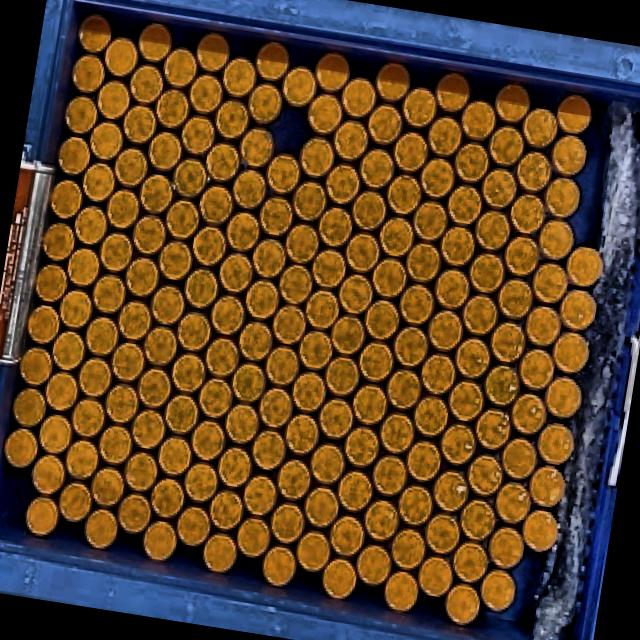vial: (545, 376, 582, 419), (552, 332, 589, 374), (321, 558, 358, 600), (452, 541, 489, 583), (444, 583, 481, 625), (529, 465, 565, 508), (356, 544, 392, 587), (480, 569, 516, 612), (566, 246, 603, 287), (560, 289, 597, 330), (352, 384, 388, 426), (344, 426, 380, 468), (379, 412, 415, 454), (413, 395, 449, 437), (481, 168, 517, 210), (462, 294, 498, 336), (448, 380, 484, 422), (516, 151, 552, 193), (490, 322, 526, 364), (467, 455, 503, 497), (525, 305, 561, 347), (511, 393, 547, 435), (501, 438, 537, 480), (337, 470, 373, 512), (425, 513, 461, 555), (488, 527, 524, 569), (296, 530, 331, 573), (367, 104, 403, 145), (359, 148, 395, 189), (402, 87, 438, 128), (386, 174, 422, 215), (364, 299, 400, 340), (386, 369, 422, 410), (494, 83, 530, 124), (475, 210, 511, 251), (455, 338, 491, 379), (440, 424, 476, 465), (556, 94, 592, 135), (551, 135, 587, 176), (475, 409, 511, 450), (261, 546, 297, 587), (329, 516, 365, 557), (398, 485, 434, 526), (433, 471, 469, 512), (418, 556, 454, 597), (460, 500, 496, 541), (225, 403, 260, 445), (428, 310, 463, 352), (421, 353, 456, 395), (519, 349, 554, 391), (270, 502, 305, 544), (304, 486, 339, 528), (372, 455, 407, 497), (364, 500, 399, 542), (523, 510, 558, 552), (351, 191, 387, 231), (330, 315, 366, 355), (324, 357, 360, 397), (420, 158, 456, 198), (469, 253, 505, 293), (522, 108, 558, 148), (544, 178, 580, 218), (504, 236, 540, 276), (532, 263, 568, 303), (44, 371, 79, 412), (282, 66, 317, 107), (300, 137, 335, 178), (278, 264, 313, 305), (341, 77, 376, 118), (333, 120, 368, 161), (285, 414, 320, 455), (345, 232, 380, 273), (318, 398, 353, 439), (393, 132, 428, 173), (372, 257, 407, 298), (413, 200, 448, 241), (399, 284, 434, 325), (461, 100, 496, 141), (447, 185, 482, 226), (435, 269, 470, 310), (406, 441, 441, 482), (510, 193, 545, 234), (498, 279, 533, 320), (538, 424, 573, 465), (58, 482, 93, 523), (84, 508, 119, 549), (117, 493, 152, 534), (143, 520, 178, 561), (184, 462, 219, 503), (217, 447, 252, 488), (209, 490, 244, 531), (243, 475, 278, 516), (310, 443, 345, 484), (391, 529, 426, 570), (384, 571, 419, 612), (495, 483, 530, 524), (106, 188, 140, 230), (219, 252, 253, 294), (265, 345, 299, 387), (277, 459, 311, 501), (454, 144, 490, 183), (129, 64, 164, 104), (125, 257, 160, 297), (184, 268, 219, 308), (255, 41, 290, 81), (308, 94, 343, 134), (292, 181, 327, 221), (325, 164, 360, 204), (305, 290, 340, 330), (298, 331, 333, 371), (292, 372, 327, 412), (338, 274, 373, 314), (379, 217, 414, 257), (435, 72, 470, 112), (406, 243, 441, 283), (440, 226, 475, 266), (539, 220, 574, 260), (31, 455, 66, 495), (131, 409, 166, 449), (157, 436, 192, 476), (202, 533, 237, 573), (57, 136, 91, 177), (74, 205, 108, 246), (67, 247, 101, 288), (85, 316, 119, 357), (78, 357, 112, 398), (19, 346, 53, 387), (189, 74, 223, 115), (166, 199, 200, 240), (222, 57, 256, 98), (215, 99, 249, 140), (165, 394, 199, 435), (248, 83, 282, 124), (240, 127, 274, 168), (191, 420, 225, 461), (266, 154, 300, 195), (245, 279, 279, 320), (239, 321, 273, 362), (259, 387, 293, 428), (485, 366, 519, 407), (91, 466, 125, 507), (151, 478, 185, 519), (177, 506, 211, 547), (151, 286, 186, 325), (198, 379, 233, 418), (489, 127, 524, 166), (104, 37, 138, 77), (71, 54, 105, 94), (90, 121, 124, 161), (114, 148, 148, 188), (50, 179, 84, 219), (92, 274, 126, 314), (52, 331, 86, 371), (163, 48, 197, 88), (148, 132, 182, 172), (139, 174, 173, 214), (118, 301, 152, 341), (105, 384, 139, 424), (173, 158, 207, 198), (206, 142, 240, 182), (177, 312, 211, 352), (172, 353, 206, 393), (226, 212, 260, 252), (252, 238, 286, 278), (232, 363, 266, 403), (285, 224, 319, 264), (252, 430, 286, 470), (376, 62, 410, 102), (359, 342, 393, 382), (394, 327, 428, 367), (4, 428, 38, 468), (39, 414, 73, 454), (237, 518, 271, 558), (138, 368, 171, 409), (78, 14, 112, 53), (123, 105, 157, 144), (64, 95, 98, 134), (82, 163, 116, 202), (27, 305, 61, 344), (71, 398, 105, 437), (196, 33, 230, 72), (156, 89, 190, 128), (133, 216, 167, 255), (111, 343, 145, 382), (159, 241, 193, 280), (199, 186, 233, 225), (193, 227, 227, 266), (233, 170, 267, 209), (211, 296, 245, 335), (205, 338, 239, 377), (259, 197, 293, 236), (316, 53, 350, 92), (312, 249, 346, 288), (428, 117, 462, 156), (25, 497, 59, 536), (99, 426, 133, 465), (124, 453, 158, 492), (97, 80, 130, 120), (35, 263, 68, 303), (273, 305, 306, 345), (13, 388, 46, 428), (66, 440, 99, 480), (138, 23, 171, 62), (42, 222, 75, 261), (100, 233, 133, 272), (182, 116, 215, 155), (144, 327, 177, 366), (319, 208, 352, 247), (60, 289, 92, 329)
